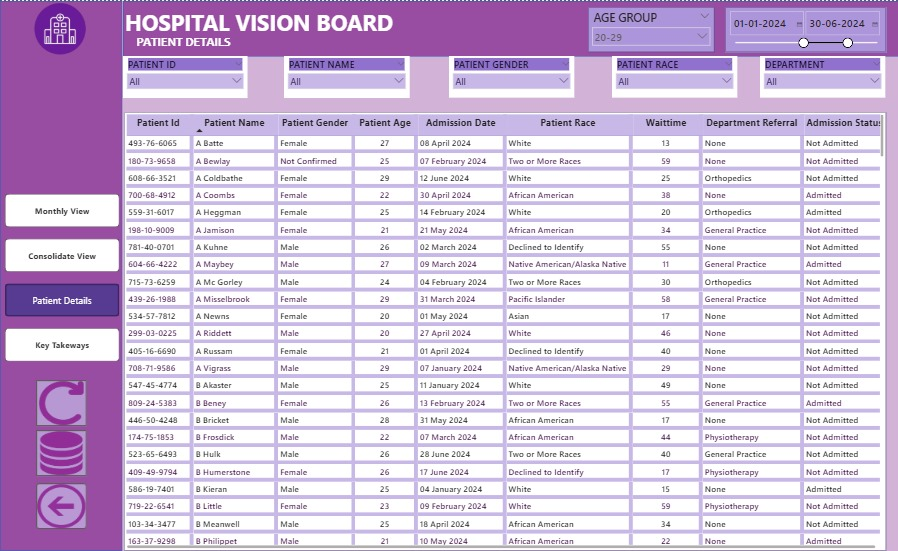

What the dashboard file says about the page in this screenshot:
{"tool":"powerbi","page":{"name":"Patient Details","canvas":[2300,1400],"ordinal":2},"visuals":[{"type":"shape","box":[8.8,0,311.2,1400],"z":0},{"type":"shape","box":[320.6,0,1979.4,141.2],"z":1000},{"type":"textbox","box":[321.6,10,706.7,106],"z":2000},{"type":"slicer","fields":{"Values":["Date table.Date"]},"box":[1852.5,15,410,115],"z":3000},{"type":"textbox","box":[311.6,70.7,327.7,70.7],"z":4000},{"type":"tableEx","fields":{"Values":["Hospital ER_Data.Patient Id","Hospital ER_Data.Full Name","Hospital ER_Data.Patient Gender","Sum(Hospital ER_Data.Patient Age)","Hospital ER_Data.Date","Hospital ER_Data.Patient Race","Sum(Hospital ER_Data.Patient Waittime)","Hospital ER_Data.Department Referral","Hospital ER_Data.Admission Status"]},"box":[322,282.8,1940.4,1117.2],"z":5000},{"type":"image","box":[0,0,320.6,141.2],"z":6000},{"type":"actionButton","box":[100,1226.5,129.4,117.6],"z":7000},{"type":"actionButton","box":[100,1091.2,129.4,117.6],"z":8000},{"type":"actionButton","box":[100,964.7,129.4,117.6],"z":9000},{"type":"slicer","fields":{"Values":["Hospital ER_Data.Patient Id"]},"box":[320,140,316.7,106.7],"z":10000},{"type":"slicer","fields":{"Values":["Hospital ER_Data.Full Name"]},"box":[730,140,320,106.7],"z":11000},{"type":"slicer","fields":{"Values":["Hospital ER_Data.Patient Gender"]},"box":[1150.8,140,319.2,106.4],"z":12000},{"type":"slicer","fields":{"Values":["Hospital ER_Data.Patient Race"]},"box":[1565.2,140,319.2,106.4],"z":13000},{"type":"slicer","fields":{"Values":["Hospital ER_Data.Department Referral"]},"box":[1943.2,140,319.2,106.4],"z":14000},{"type":"slicer","fields":{"Values":["Hospital ER_Data.Age Group"]},"box":[1503.6,14,322,114.8],"z":15000},{"type":"pageNavigator","box":[20.6,491.2,291.2,426.5],"z":16000}]}

Visuals, with their boxes in screenshot pixels (x1, y1, x2, y2), scaled from the page's 2300x1400 canvas onto the 898x551 screenshot:
shape: {"x1": 3, "y1": 0, "x2": 125, "y2": 550}
shape: {"x1": 125, "y1": 0, "x2": 897, "y2": 56}
textbox: {"x1": 126, "y1": 4, "x2": 401, "y2": 46}
slicer - Date table.Date: {"x1": 723, "y1": 6, "x2": 883, "y2": 51}
textbox: {"x1": 122, "y1": 28, "x2": 250, "y2": 56}
tableEx - Hospital ER_Data.Patient Id x Hospital ER_Data.Full Name: {"x1": 126, "y1": 111, "x2": 883, "y2": 550}
image: {"x1": 0, "y1": 0, "x2": 125, "y2": 56}
actionButton: {"x1": 39, "y1": 483, "x2": 90, "y2": 529}
actionButton: {"x1": 39, "y1": 429, "x2": 90, "y2": 476}
actionButton: {"x1": 39, "y1": 380, "x2": 90, "y2": 426}
slicer - Hospital ER_Data.Patient Id: {"x1": 125, "y1": 55, "x2": 249, "y2": 97}
slicer - Hospital ER_Data.Full Name: {"x1": 285, "y1": 55, "x2": 410, "y2": 97}
slicer - Hospital ER_Data.Patient Gender: {"x1": 449, "y1": 55, "x2": 574, "y2": 97}
slicer - Hospital ER_Data.Patient Race: {"x1": 611, "y1": 55, "x2": 736, "y2": 97}
slicer - Hospital ER_Data.Department Referral: {"x1": 759, "y1": 55, "x2": 883, "y2": 97}
slicer - Hospital ER_Data.Age Group: {"x1": 587, "y1": 6, "x2": 713, "y2": 51}
pageNavigator: {"x1": 8, "y1": 193, "x2": 122, "y2": 361}
